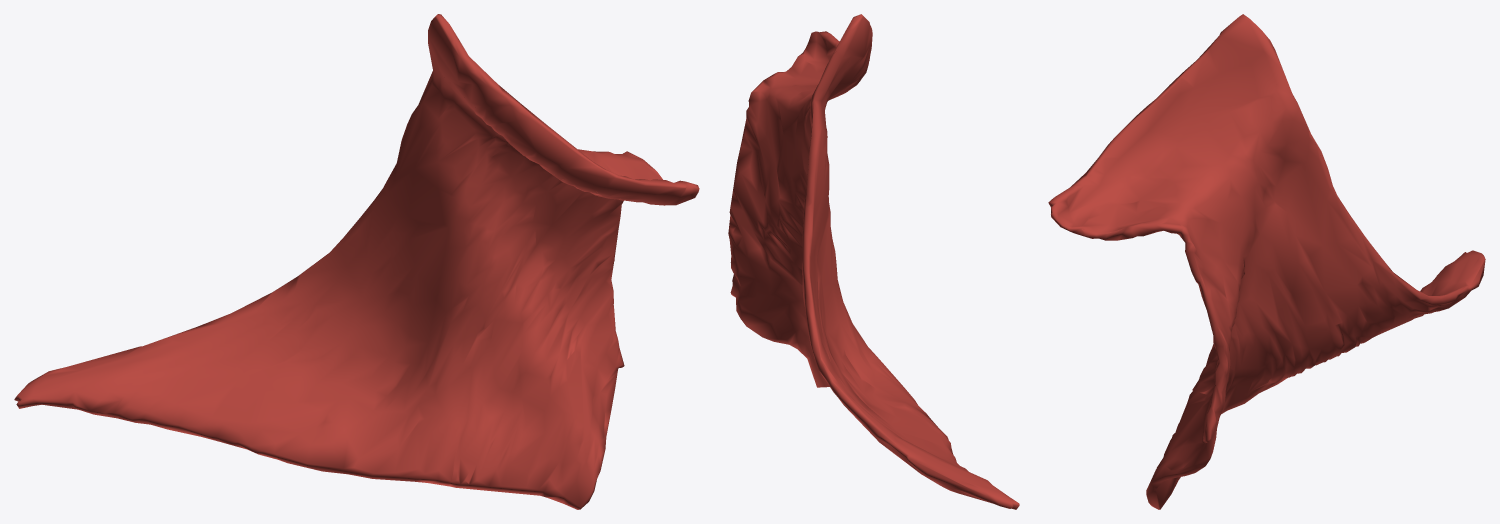
The model's file is musculos-platysma-r.glb.
3 renders of one model, left to right at view 1: azimuth 30°, elevation 25°; view 2: azimuth 150°, elevation 25°; view 3: azimuth 270°, elevation 25°, orthographic. The views are drawn at different scales.
Visible parts, largest first — view 1: Platysma.r; view 2: Platysma.r; view 3: Platysma.r.
Boxes of the visible parts, left/top/right/bottom form: Platysma.r: left=14, top=14, right=699, bottom=509; Platysma.r: left=728, top=14, right=1019, bottom=509; Platysma.r: left=1048, top=14, right=1485, bottom=509.
Size of the model in its own units: 0.1439 by 0.1421 by 0.1245.
